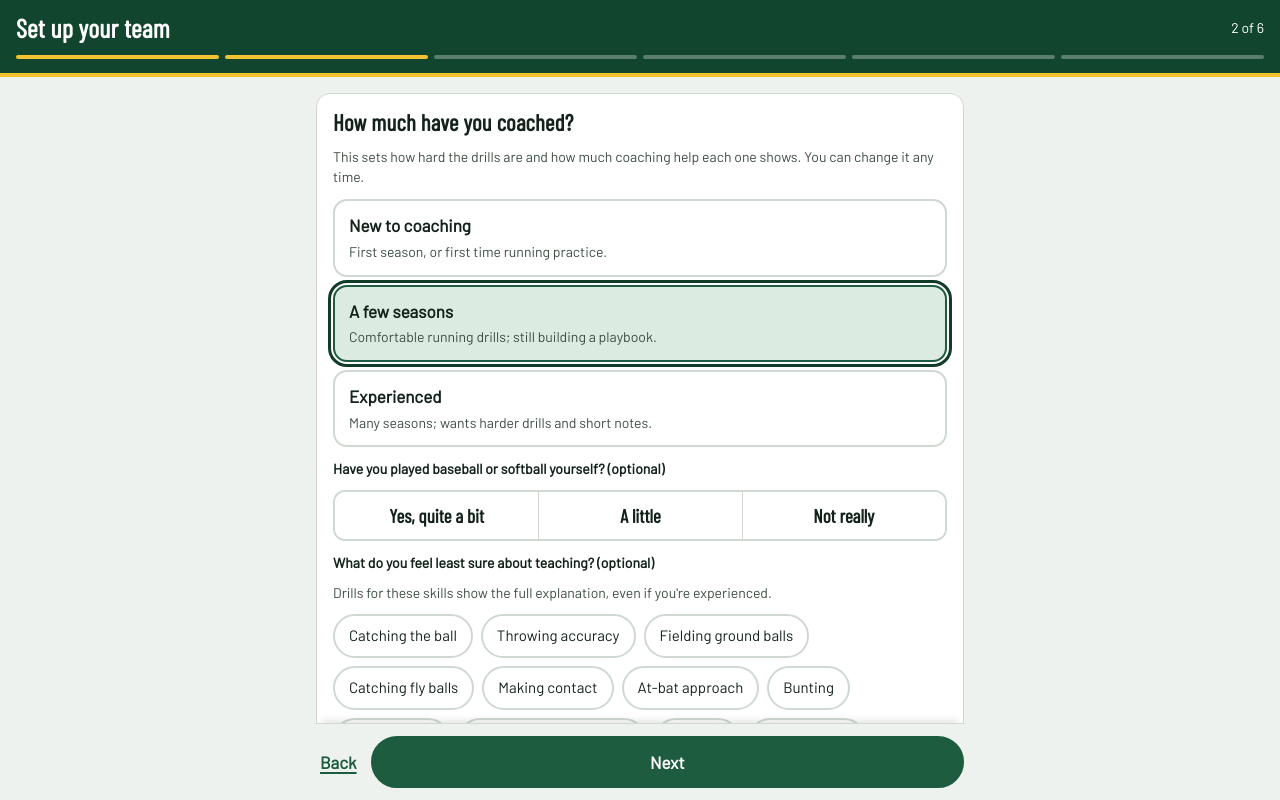
it: adding practices one at a time › first-run setup saves the team adults and hides "Save and start planning" while a practice is half-entered
Earlier steps of the test are not shown.
Later steps or results of the test are not shown.
Click the button "Next": (667, 762) [371,735,964,788]
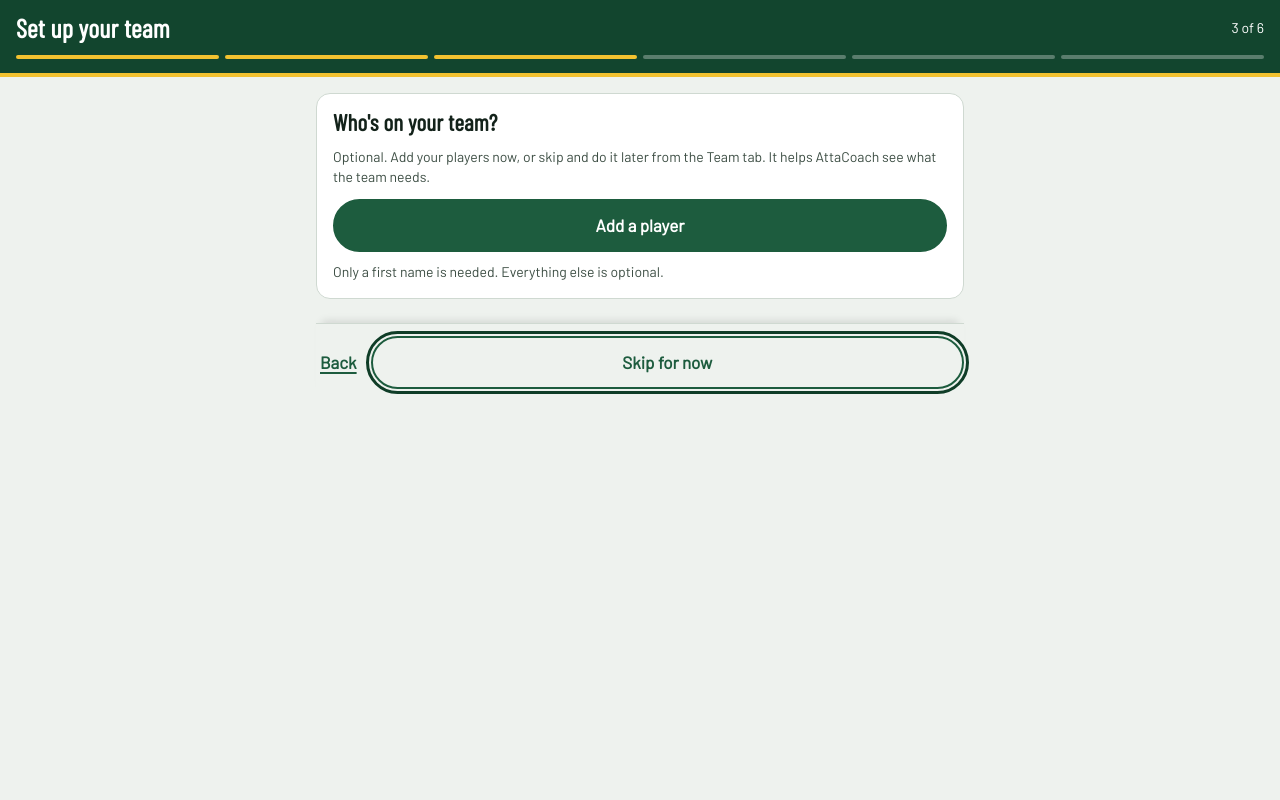
Click the button named "Next": (667, 363) [371,336,964,389]
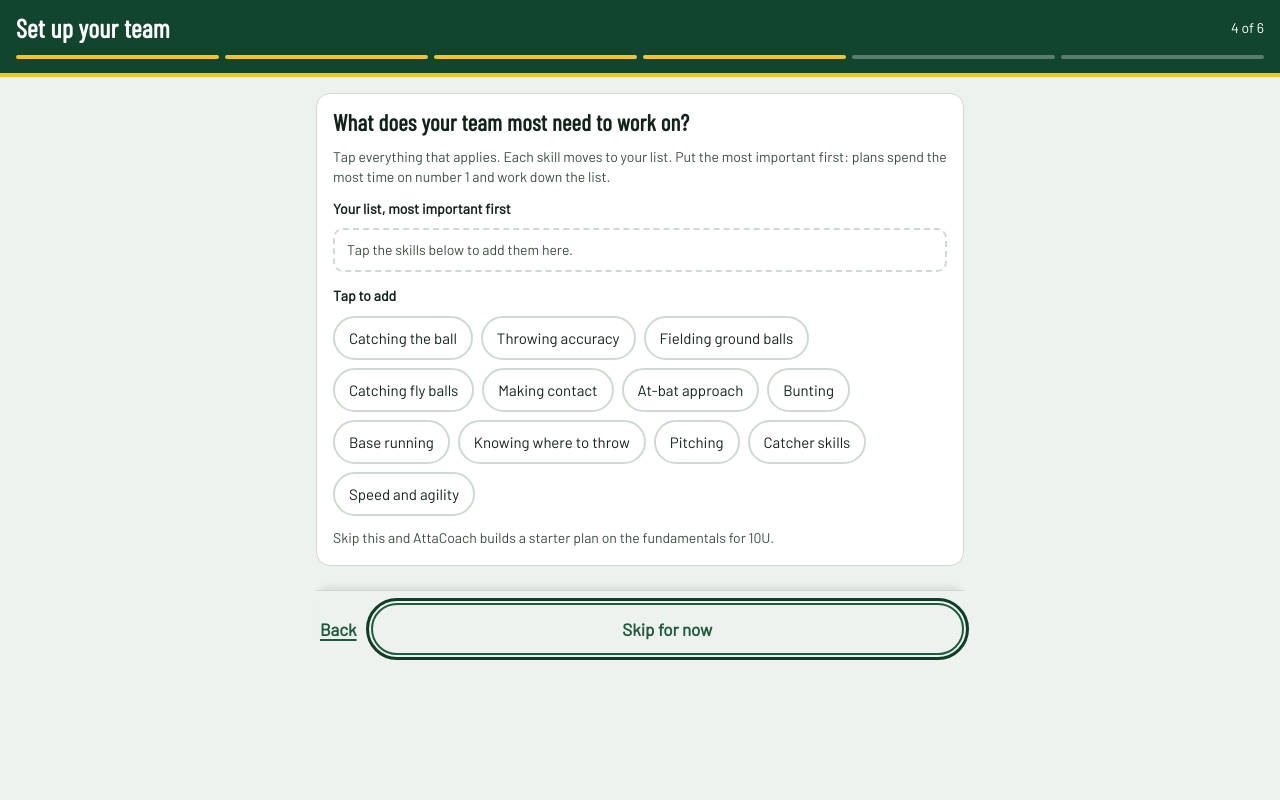
Click the button named "Next": (667, 629) [371,603,964,655]
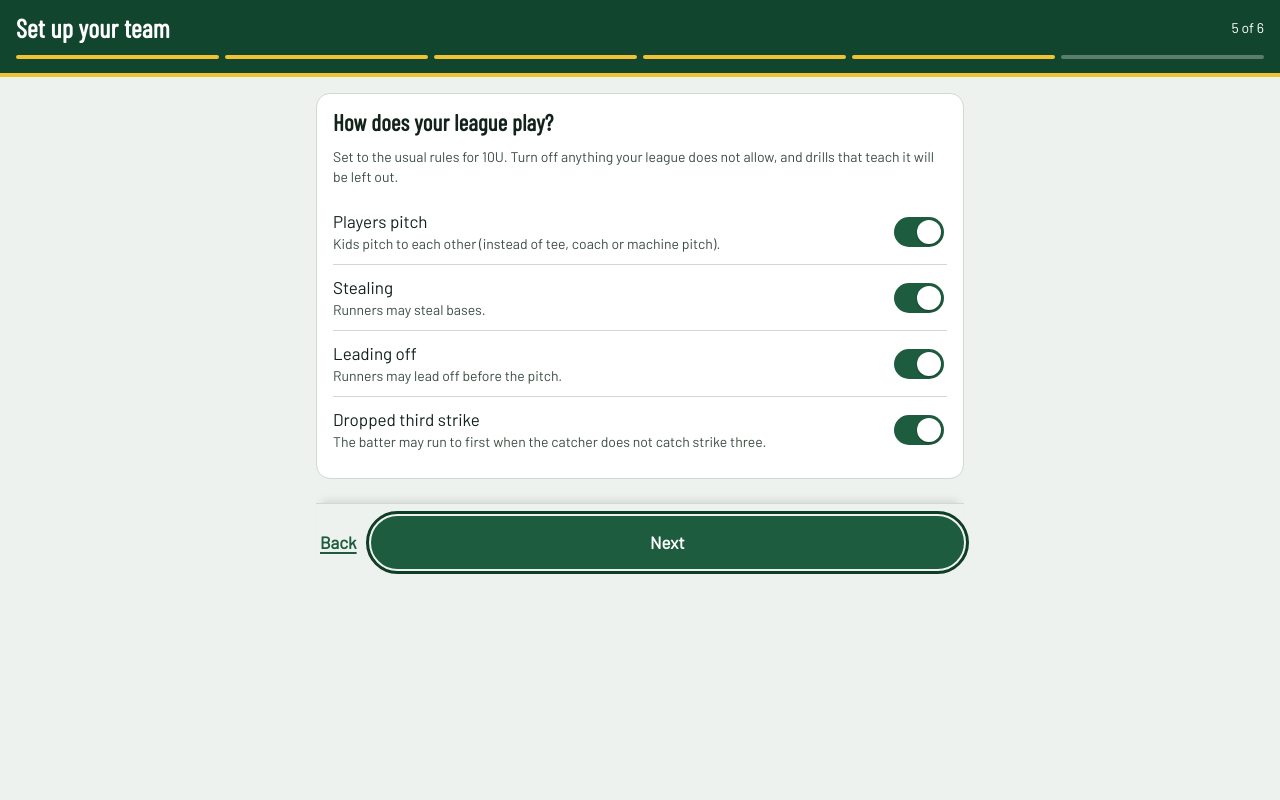
Click the button "Next": (667, 542) [371,516,964,569]
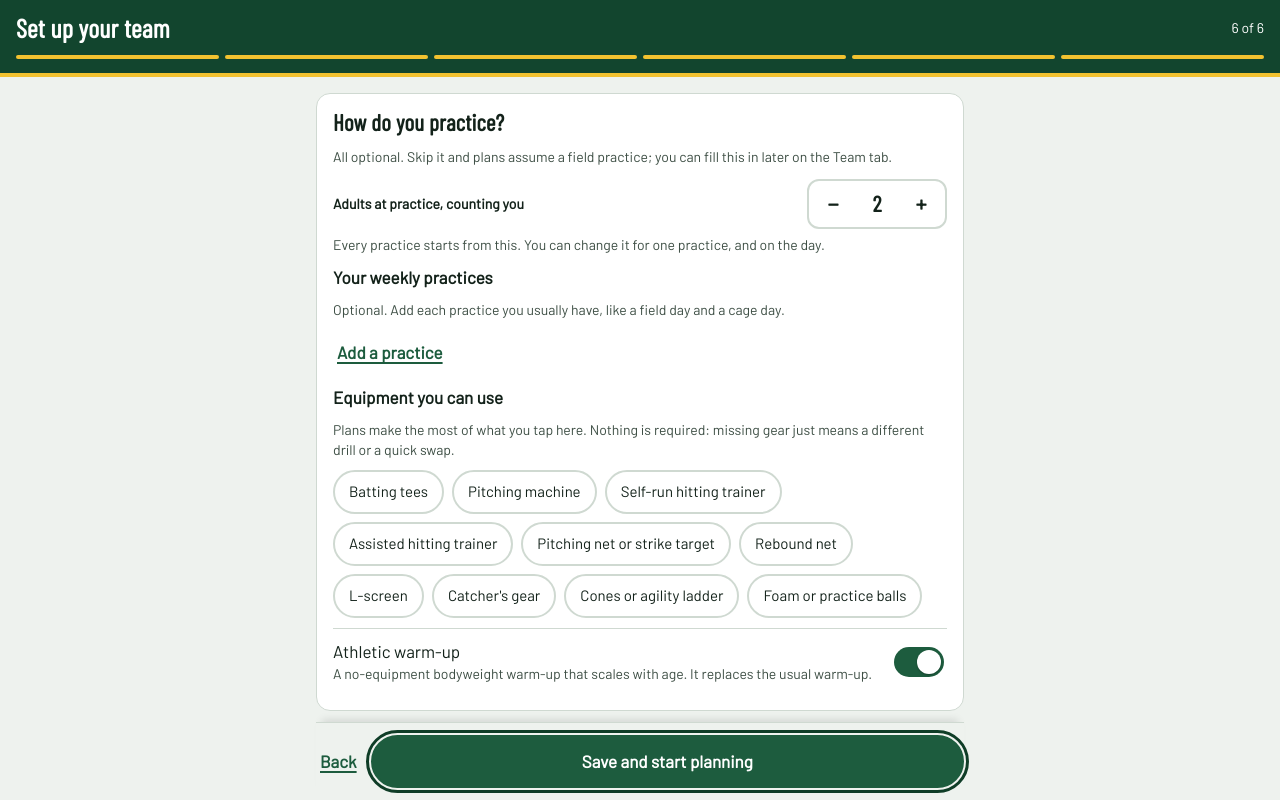
Result: the heading "How do you practice?" is shown at [333,108,504,136]
Click the button named "More: Adults at practice, counting you": (921, 204) [897,181,945,227]
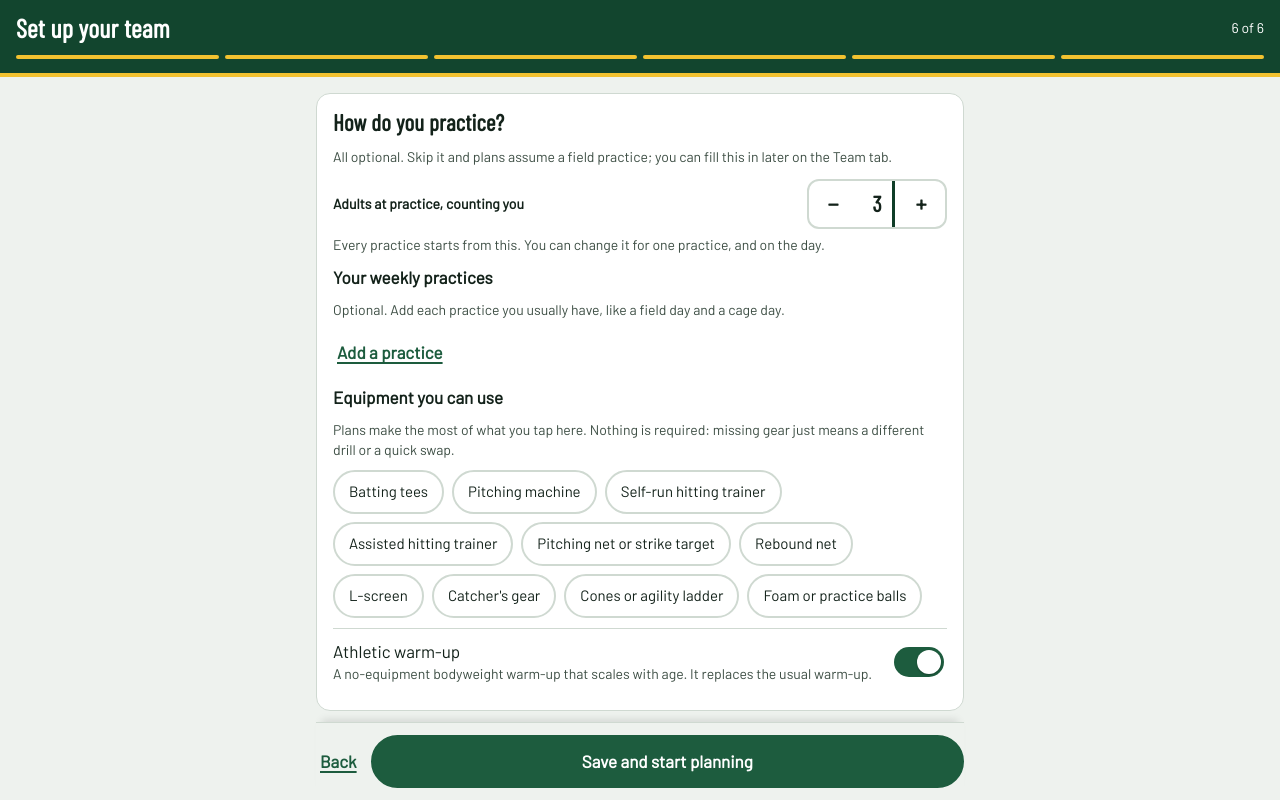
Click the button "Add a practice": (390, 353) [333,330,447,375]
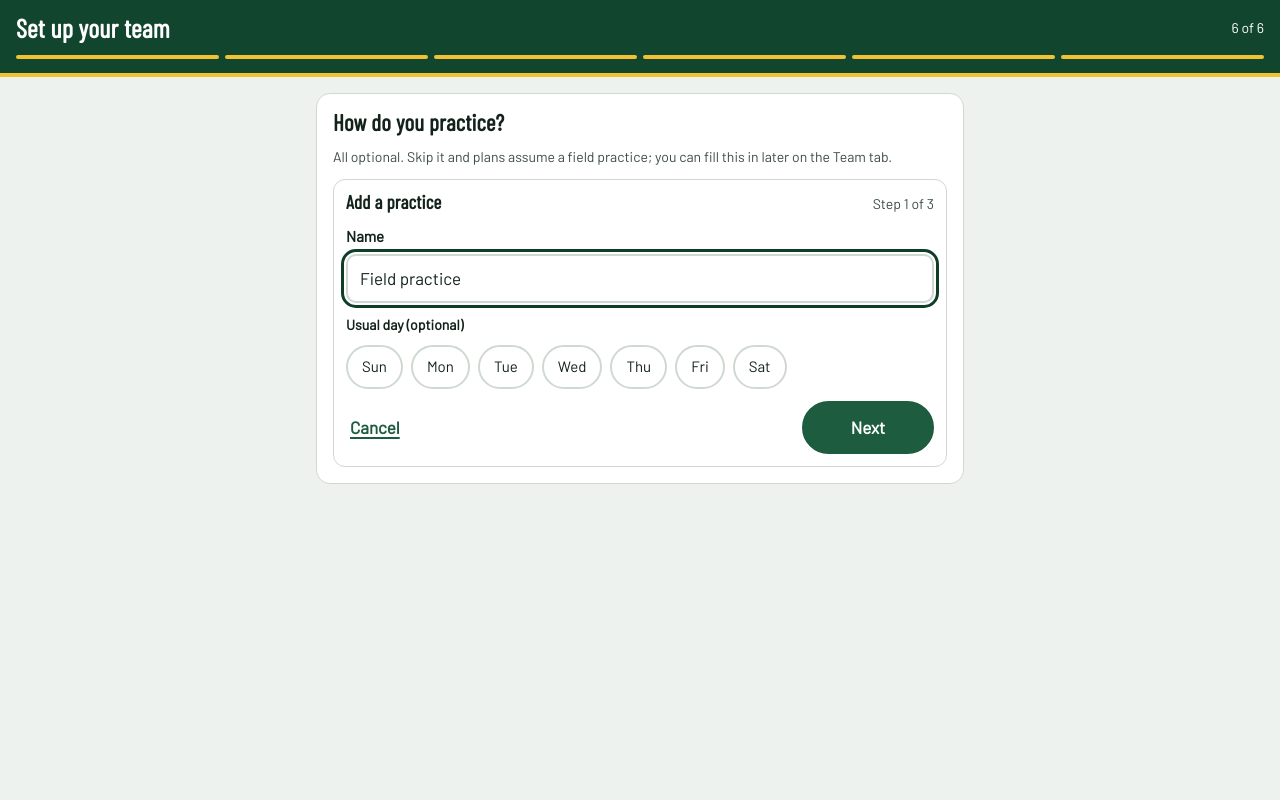
Result: the button "Save and start planning" is gone
